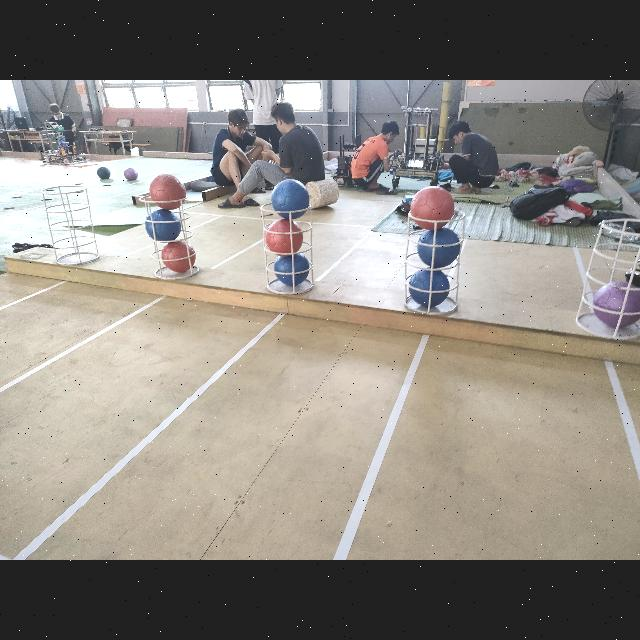B: (418, 228, 460, 268), (408, 268, 450, 308), (270, 178, 310, 220), (274, 252, 310, 288), (145, 210, 181, 242)
R: (410, 186, 456, 228), (265, 218, 303, 256), (149, 174, 187, 210), (162, 240, 196, 272)
